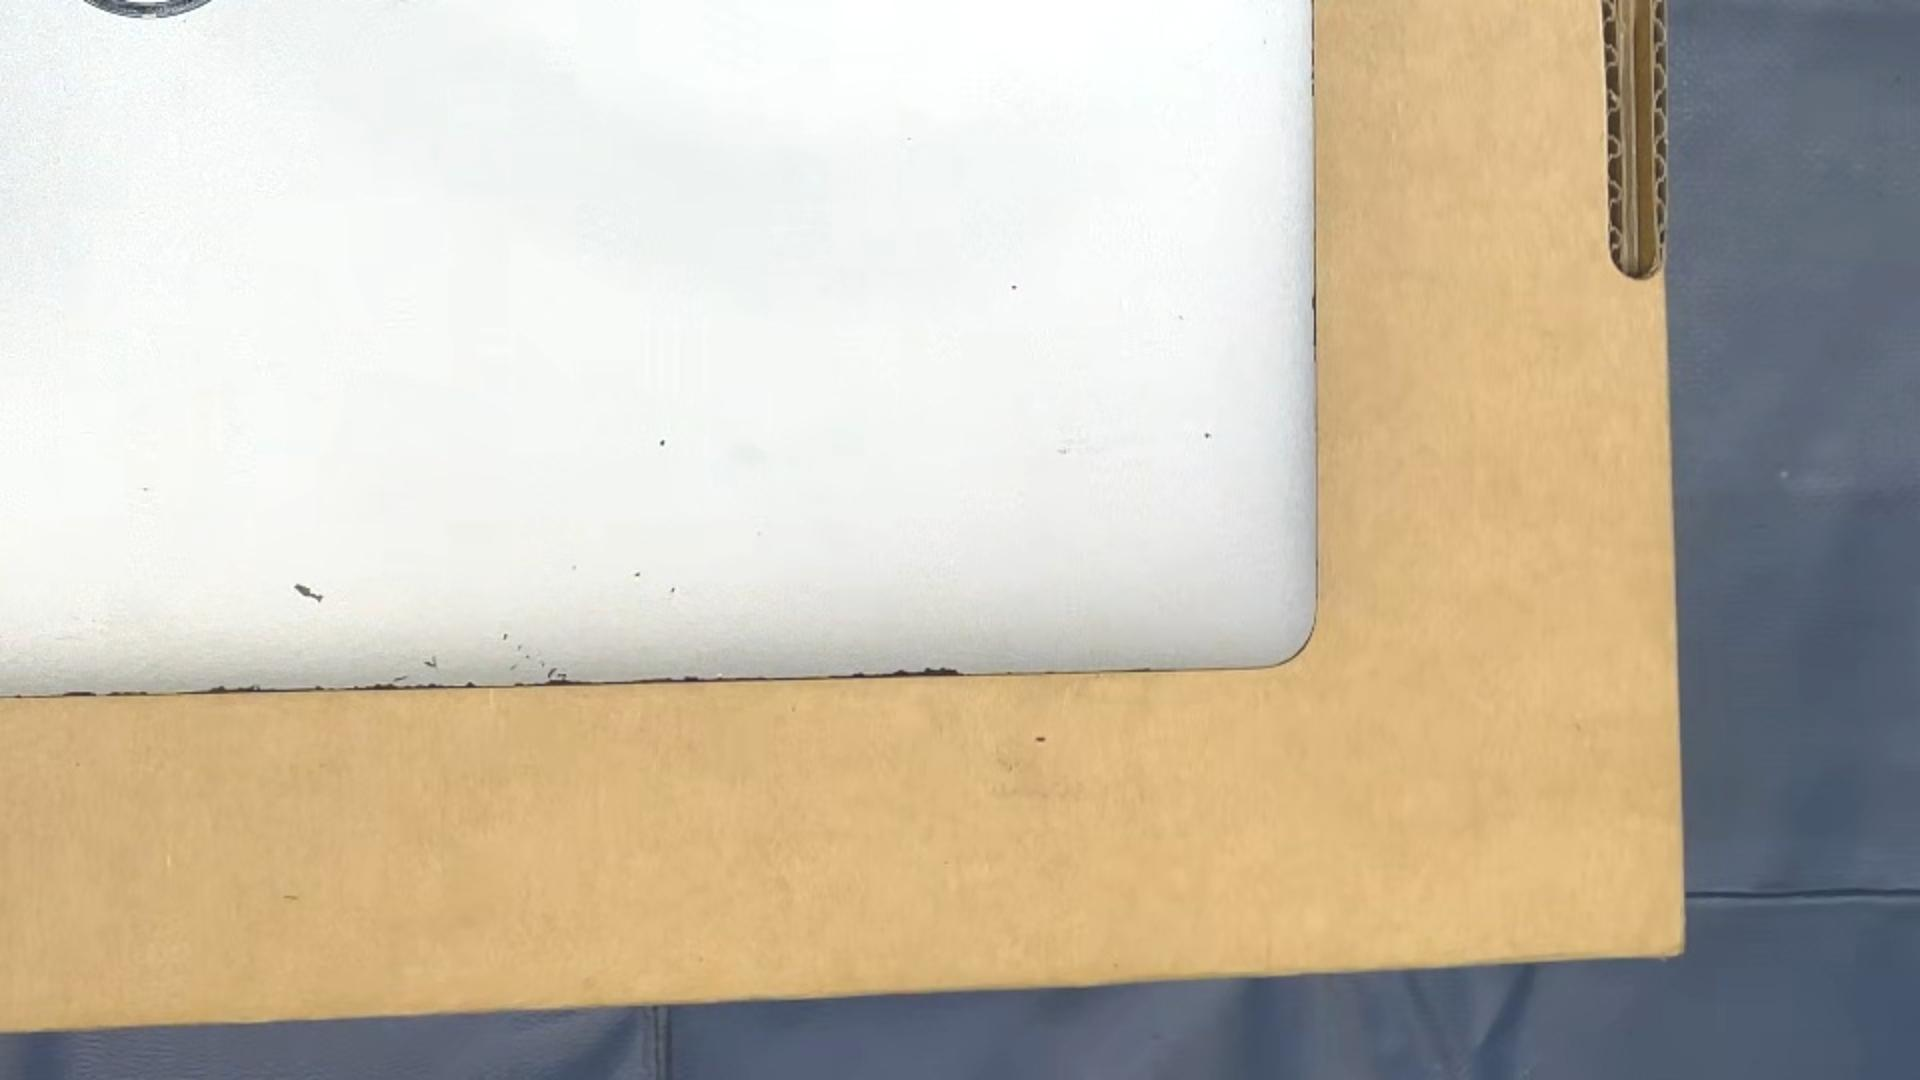chip: (828, 667, 965, 679), (513, 673, 601, 688), (175, 684, 262, 695), (348, 683, 447, 691), (629, 675, 712, 684), (293, 583, 326, 603), (105, 691, 149, 696), (61, 691, 96, 696), (547, 665, 559, 679), (1203, 431, 1213, 440), (1311, 295, 1316, 313), (658, 438, 666, 448), (314, 684, 326, 691), (464, 680, 476, 687), (1011, 282, 1019, 291), (633, 570, 642, 578), (669, 587, 676, 593)
scratches: (423, 655, 438, 670), (392, 675, 409, 682), (510, 662, 520, 670), (538, 661, 546, 669), (502, 632, 509, 641), (517, 644, 524, 651), (525, 654, 531, 658)
